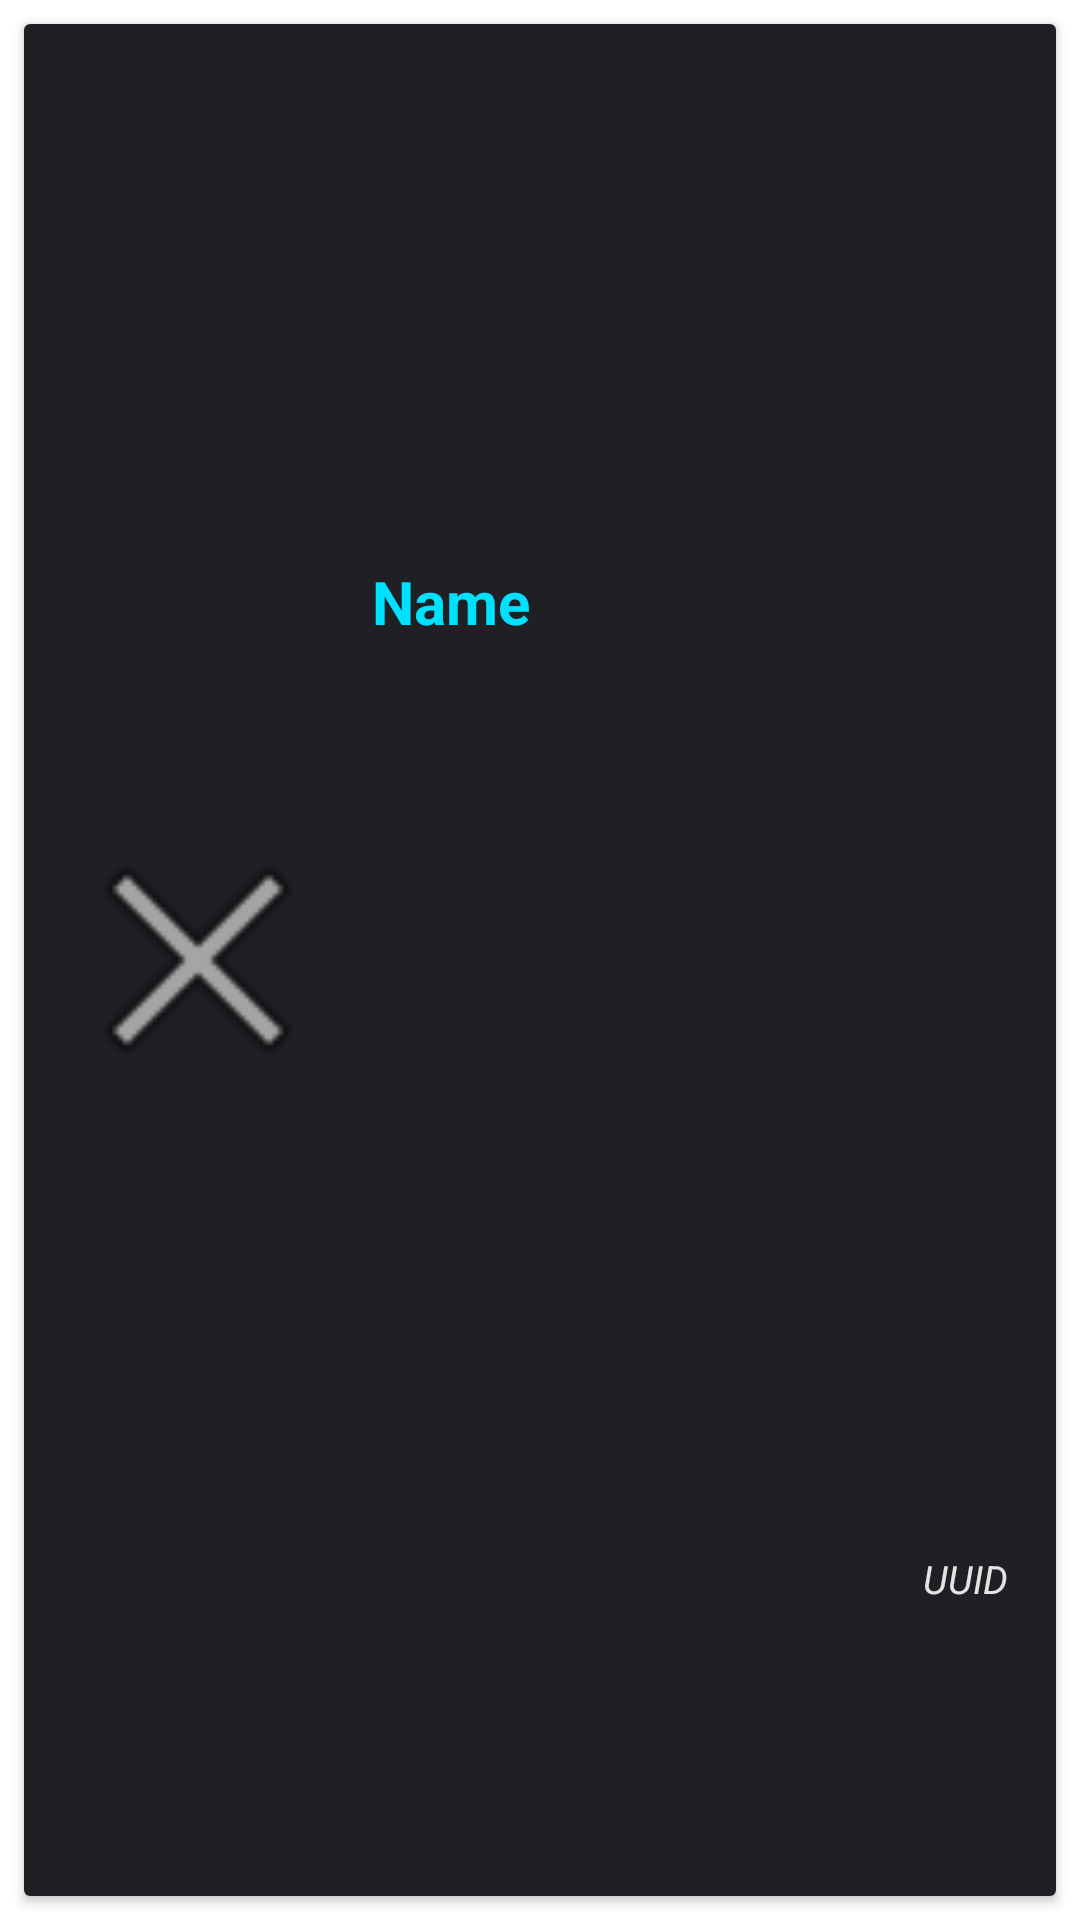

Icons on this 1080 × 1920 Android screen, each with the point to tap as point (x, y):
close clear cancel: point (198, 960)
